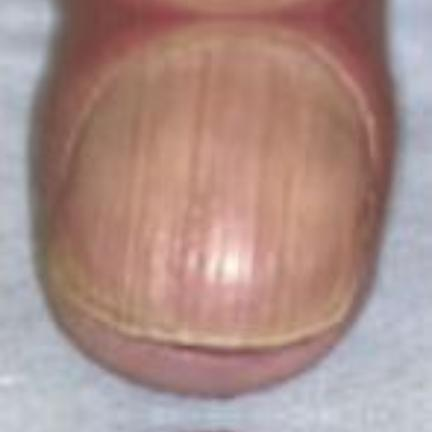Nail: (46, 33, 374, 345)
